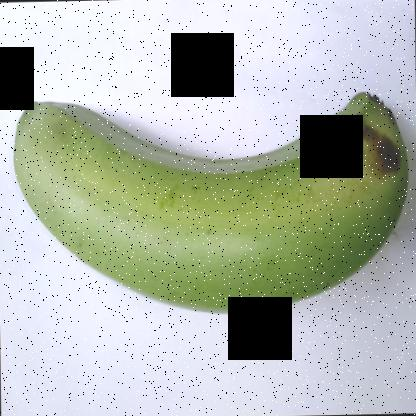freshunripe: (2, 62, 416, 323)
